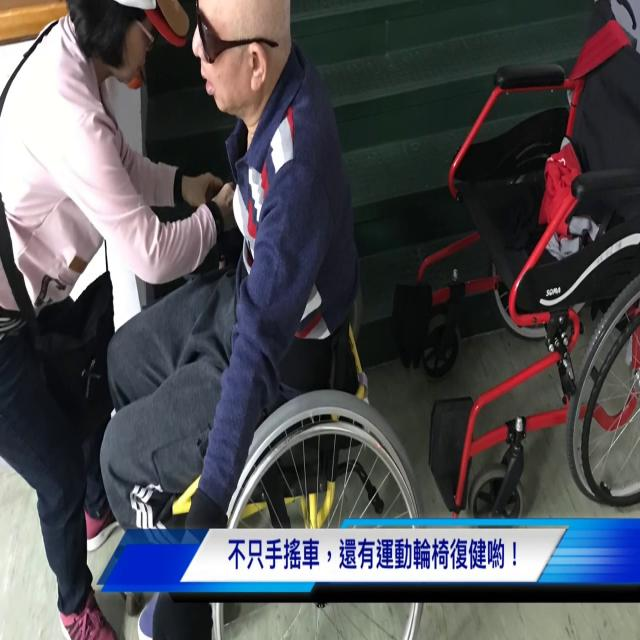wheelchairs: (401, 0, 640, 572), (119, 260, 437, 640)
